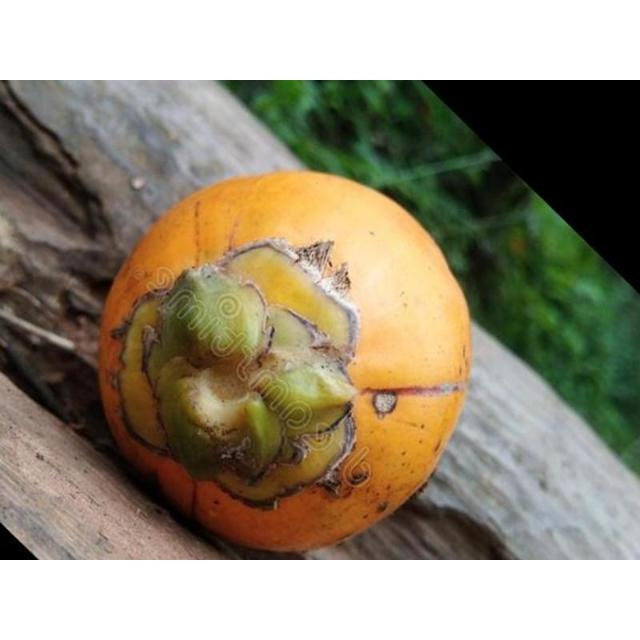good: (99, 171, 471, 552)
